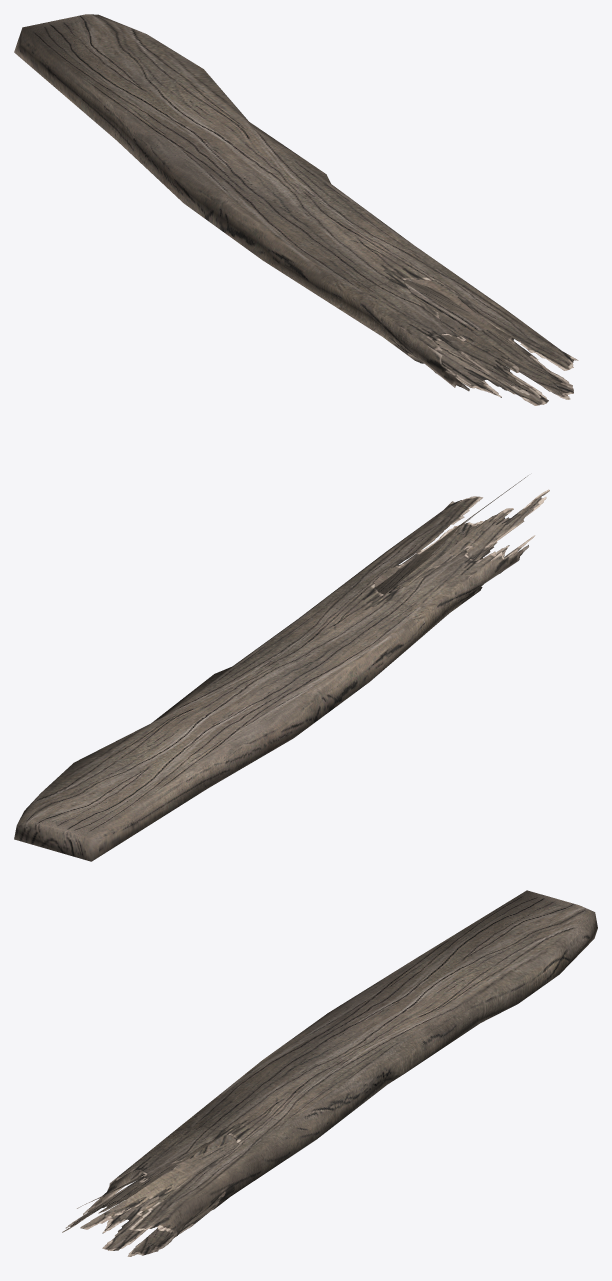
File: WPlank_Splinted_05.fbx
3 views of the same model, one above another, from view 1: azimuth 30°, elevation 25°; view 2: azimuth 150°, elevation 25°; view 3: azimuth 330°, elevation 25° (orthographic). The views are drawn at different scales.
Visible parts, largest first — view 1: WPlank_splinted_05; view 2: WPlank_splinted_05; view 3: WPlank_splinted_05.
Part boxes in pixels (bbox=[...]): WPlank_splinted_05: bbox=[14, 14, 578, 405]; WPlank_splinted_05: bbox=[14, 475, 549, 861]; WPlank_splinted_05: bbox=[62, 890, 597, 1256].
Bounding box in the file's own units: 0.8641 × 0.3636 × 5.77.
